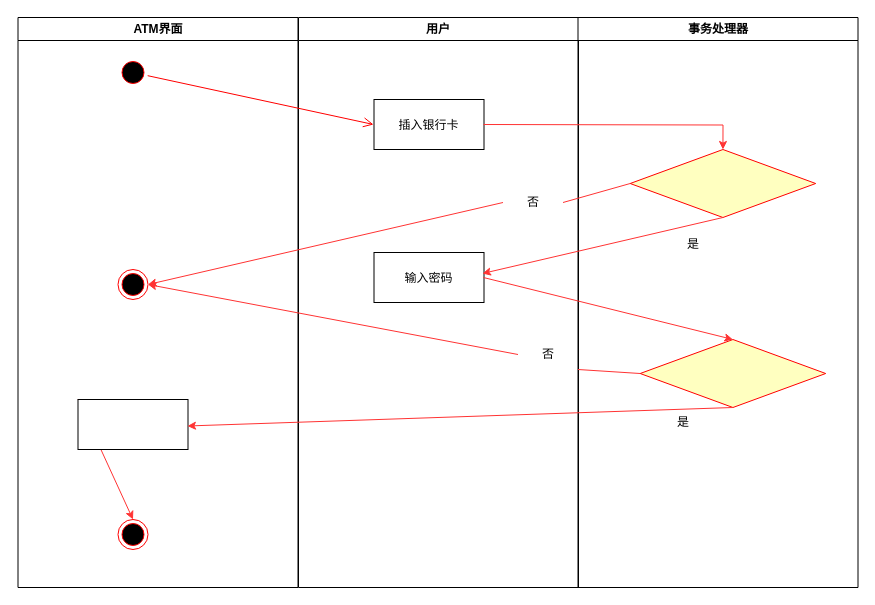
This 875x605 diagram has some shape labels left out. The shapes that lost their labels are listed below. From the top down, each one's centre as x and y in pixels, then its label:
At point (722, 183): "判断银行卡是否为该行所有".
At point (732, 373): "验证密码是否正确".
At point (132, 424): "进入主界面".
